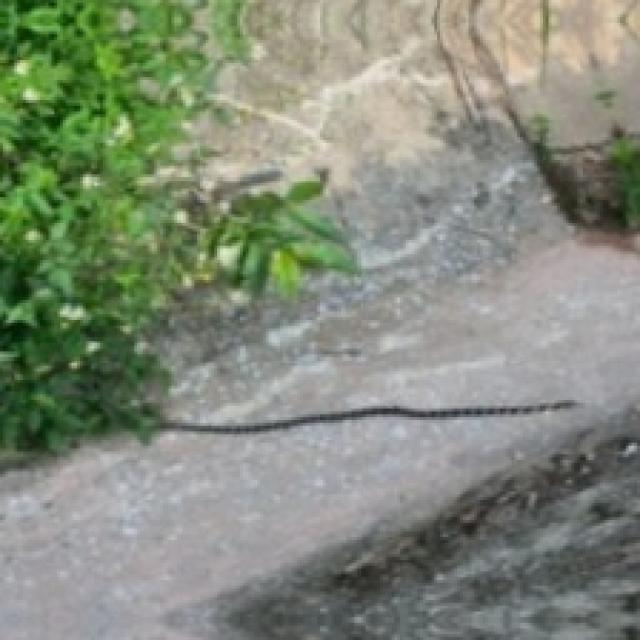king cobra: (157, 400, 577, 431)
